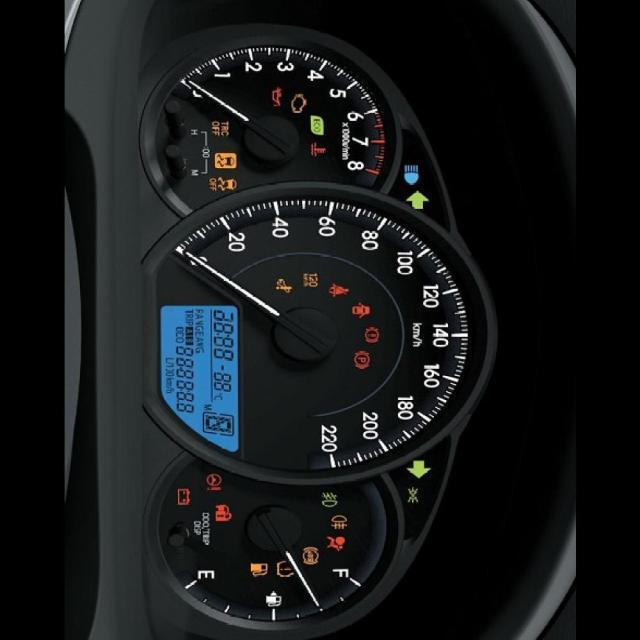Electronic Power Steering: (206, 473, 222, 492)
High Engine Coolant Temperature: (310, 142, 326, 156)
Seat Belt: (329, 282, 349, 296)
